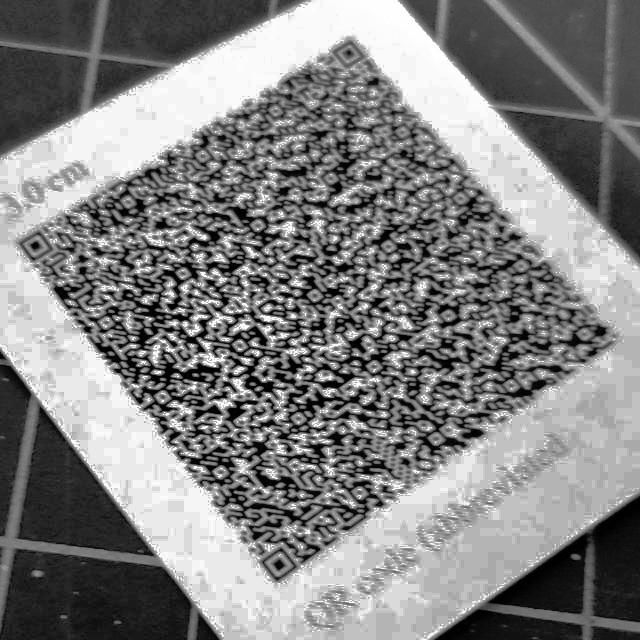qr_code: (8, 28, 627, 589)
